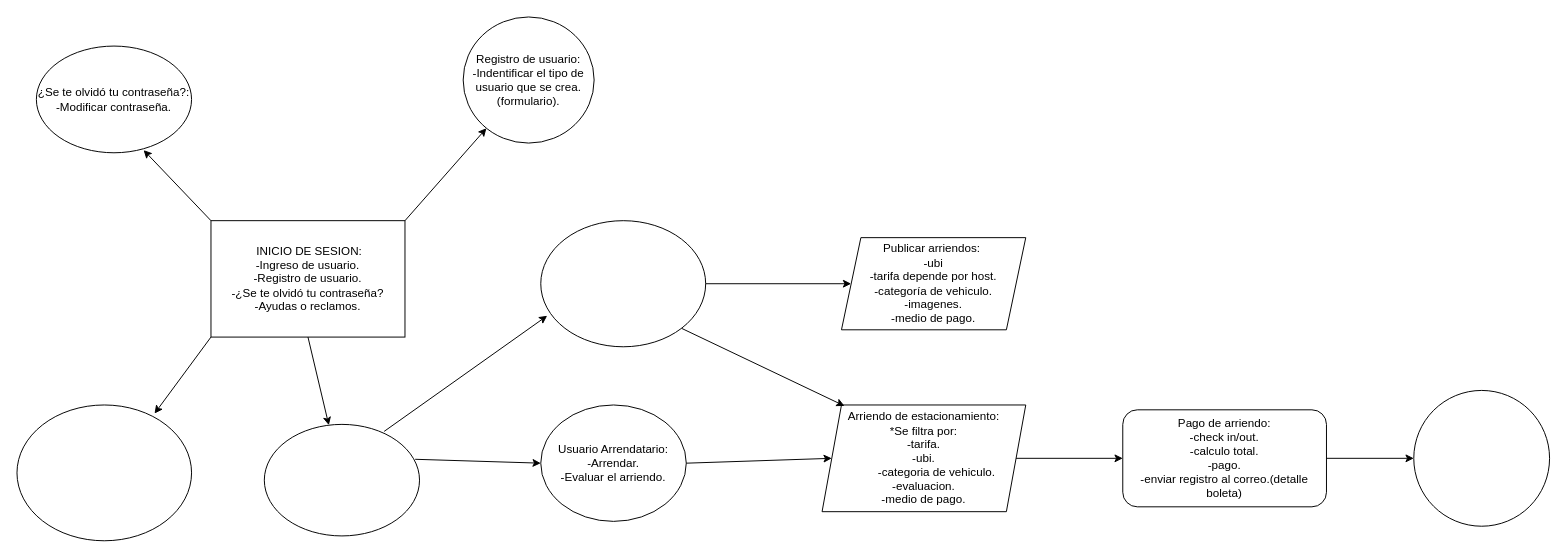
The diagram is 1567 pixels wide and 558 high, and some of its shapes have lost their labels. Each missing label, with the box of its shape:
Ayuda o reclamos: -Dejar comentarios y correo para atender solicitud.: (16, 404, 192, 541)
evaluación arriendo: -Reseña. -puntuación. *para ambos usuarios.: (1413, 389, 1550, 526)
Perfil de usuario:: (263, 423, 420, 536)
Usuario Host: -Publicar arriendos. -Arrendar. -Evaluar al usuario que arrienda.: (540, 220, 706, 347)
